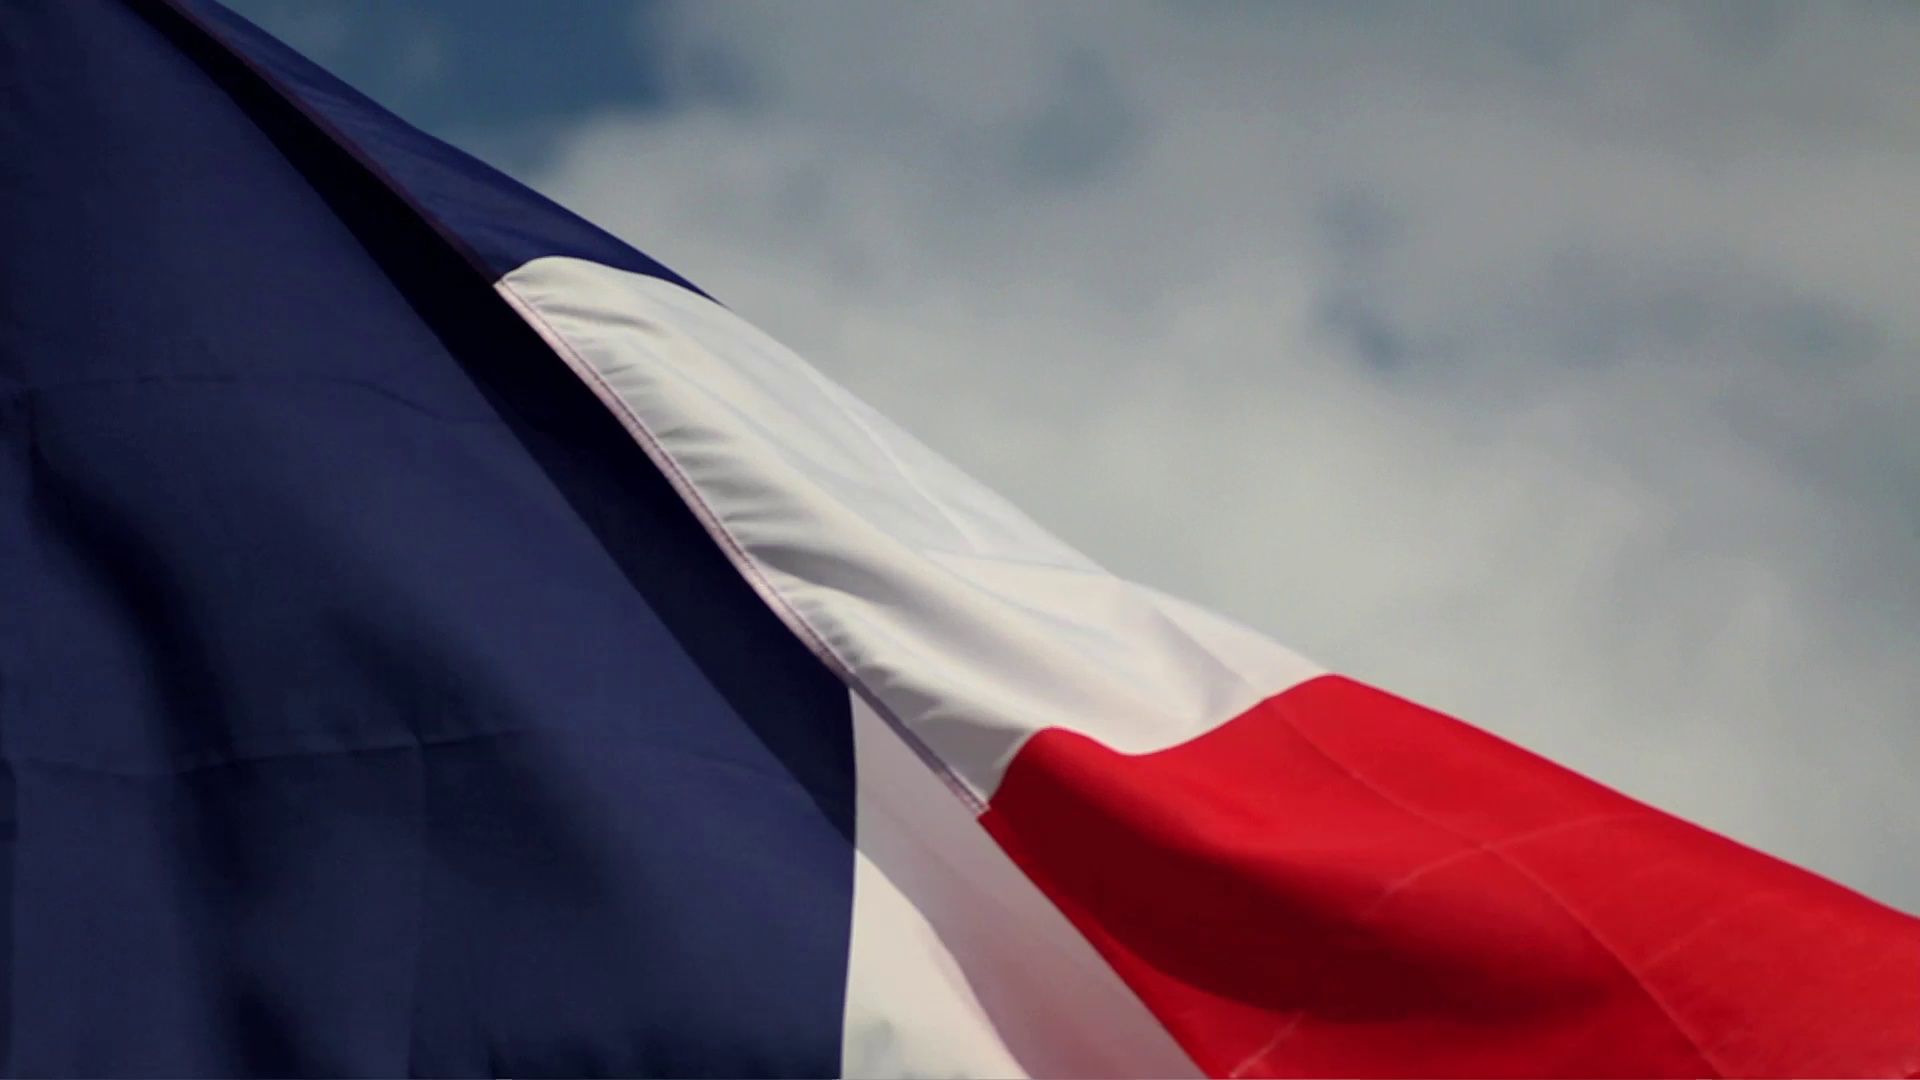French Flag: (1, 1, 1917, 1080)
